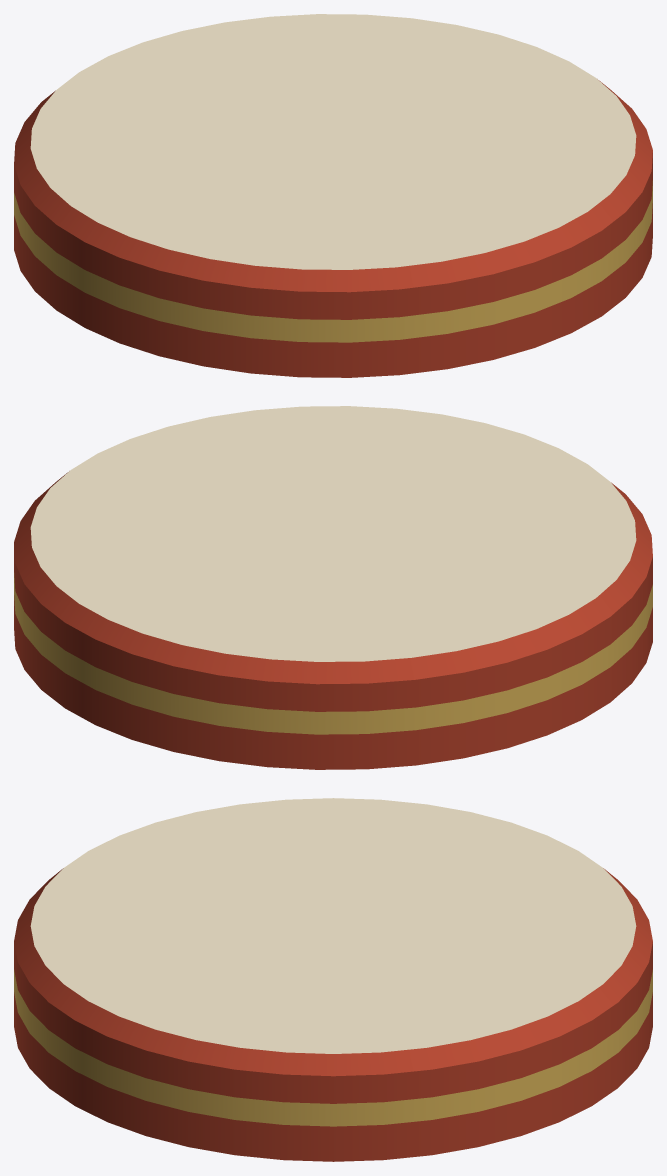
3 views of the same model, one above another, from view 1: azimuth 30°, elevation 25°; view 2: azimuth 150°, elevation 25°; view 3: azimuth 270°, elevation 25° (orthographic).
Visible parts, largest first — view 1: BaseTop, BaseBody, BaseRing; view 2: BaseTop, BaseBody, BaseRing; view 3: BaseTop, BaseBody, BaseRing.
Boxes of the visible parts, bbox=[...] form: BaseTop: bbox=[30, 14, 636, 269]; BaseBody: bbox=[14, 80, 652, 377]; BaseRing: bbox=[14, 181, 652, 342]; BaseTop: bbox=[30, 406, 636, 661]; BaseBody: bbox=[14, 472, 652, 769]; BaseRing: bbox=[14, 573, 652, 734]; BaseTop: bbox=[30, 798, 636, 1053]; BaseBody: bbox=[14, 868, 652, 1161]; BaseRing: bbox=[14, 970, 652, 1126].
Size of the model in its own units: 0.046 by 0.008 by 0.046.
